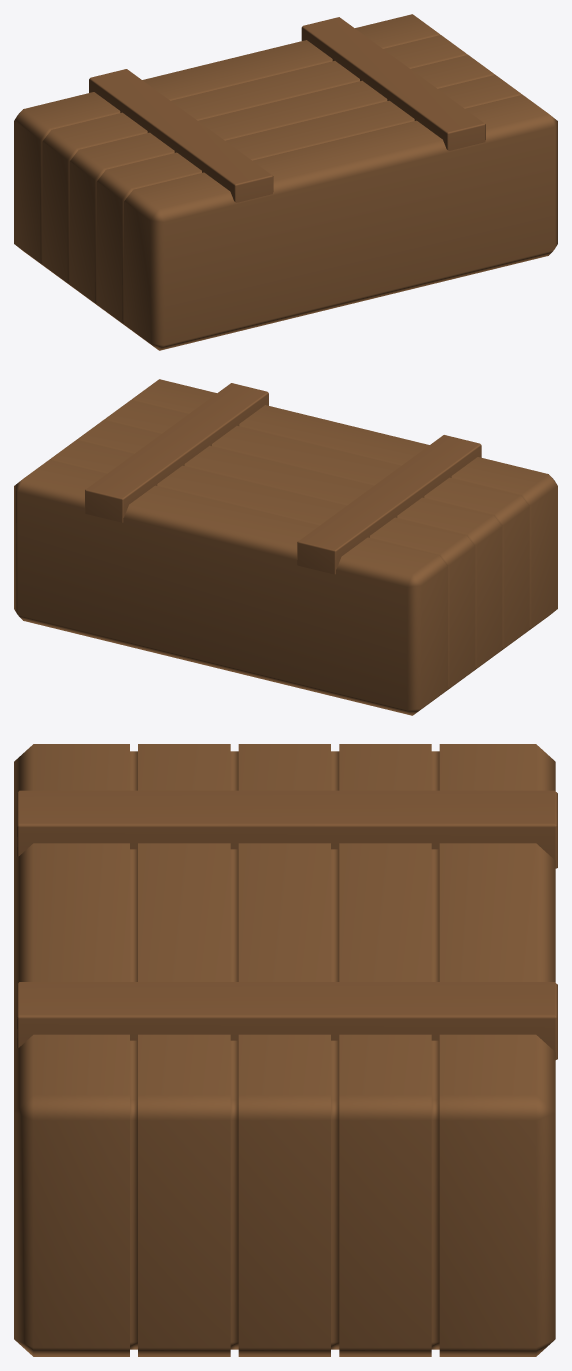
The model's file is Crate_2.fbx.
3 views of the same model, one above another, from view 1: azimuth 30°, elevation 25°; view 2: azimuth 150°, elevation 25°; view 3: azimuth 270°, elevation 25° (orthographic). The views are drawn at different scales.
Parts seen in each view (by area): view 1: Crate_2; view 2: Crate_2; view 3: Crate_2.
Boxes of the visible parts, x1,y1,x2,y2 form: Crate_2: (14, 14, 557, 350); Crate_2: (14, 379, 557, 715); Crate_2: (14, 744, 557, 1356).
Size of the model in its own units: 194 by 69.12 by 121.
